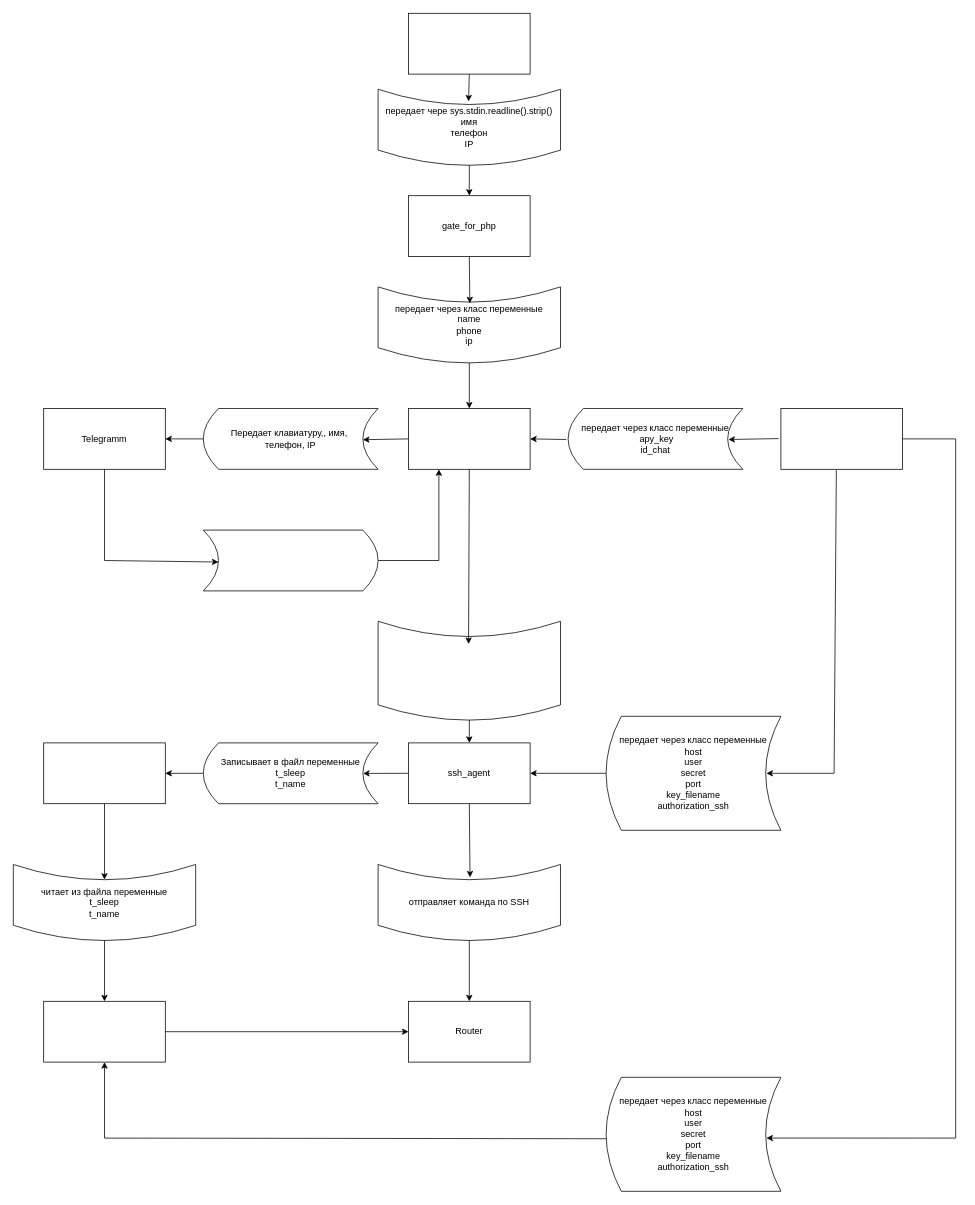
The diagram is 975 pixels wide and 1205 high, and some of its shapes have lost their labels. Here are the shapes that lost their labels. From the top down, the centre of each, then its label:
At point (469, 43): "php".
At point (469, 438): "telebot".
At point (841, 438): "Config".
At point (290, 560): "Передает принятое пользователем решение".
At point (468, 670): "передает через класс переменные name phone ip port_servis block_open".
At point (104, 773): "watch_dog_data".
At point (104, 1031): "watch_dog".
